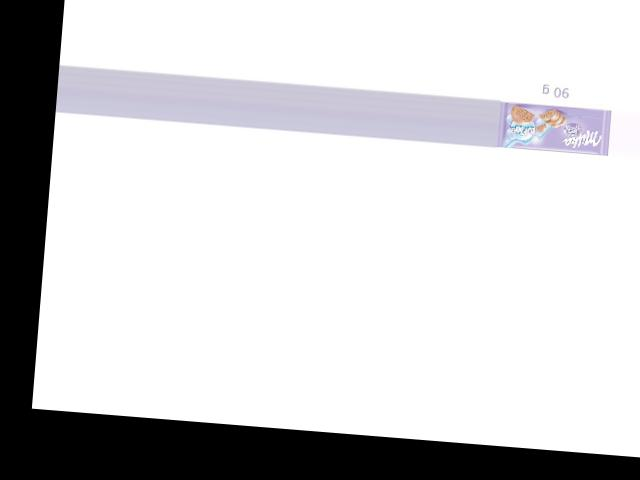chocolate: (496, 101, 609, 156)
